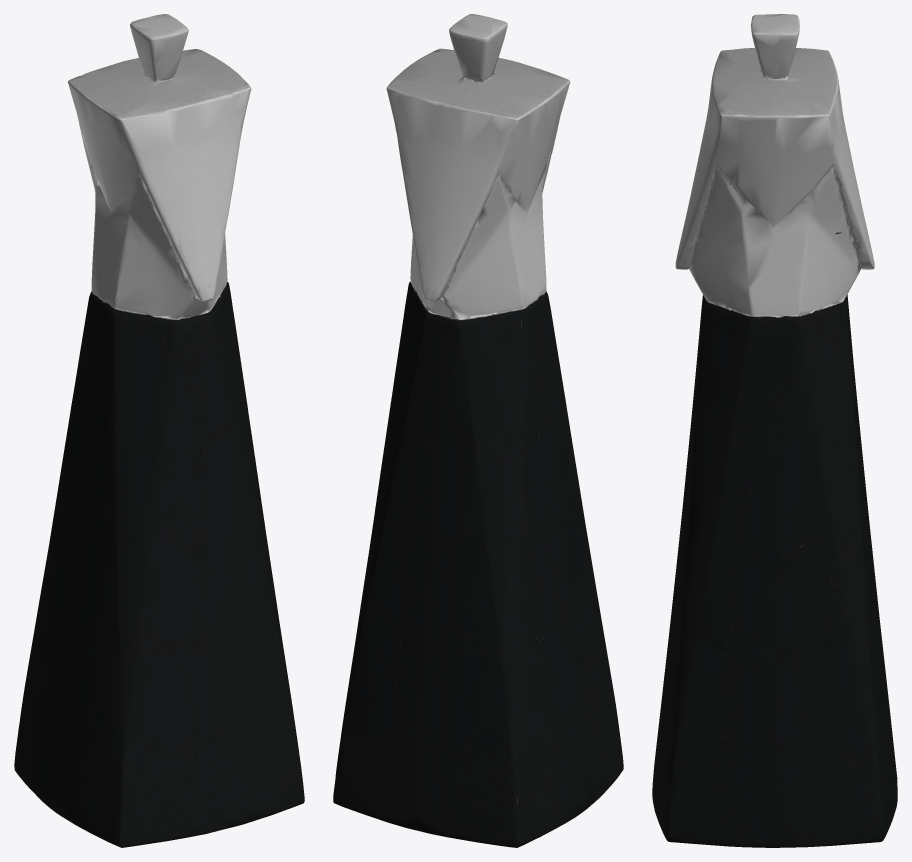
The model's file is king-black.glb.
3 renders of one model, left to right at view 1: azimuth 30°, elevation 25°; view 2: azimuth 150°, elevation 25°; view 3: azimuth 270°, elevation 25°, orthographic.
Bounding box in the file's own units: 0.4989 × 1.75 × 0.4985.
1 material, 1 textured.
